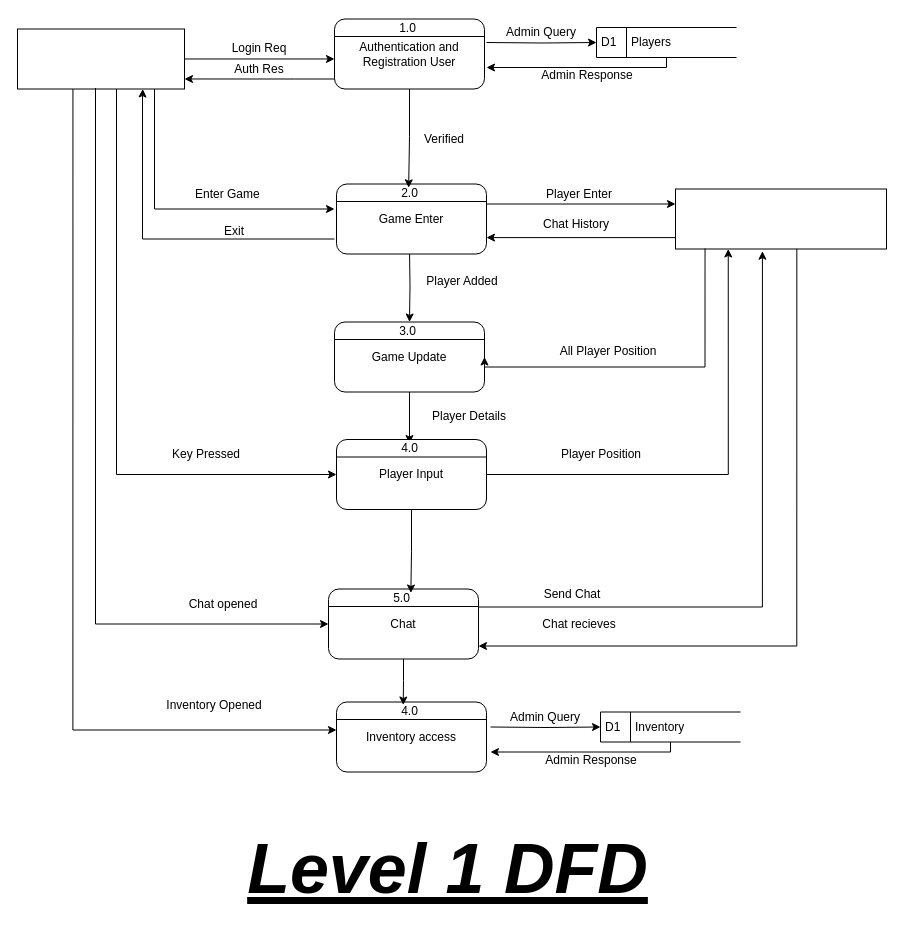
This 904x933 diagram has some shape labels left out. The shapes that lost their labels are listed below. From the top down, each one's centre as x and y in pixels, then its label:
At (100,58): "Player".
At (780,218): "Server".
